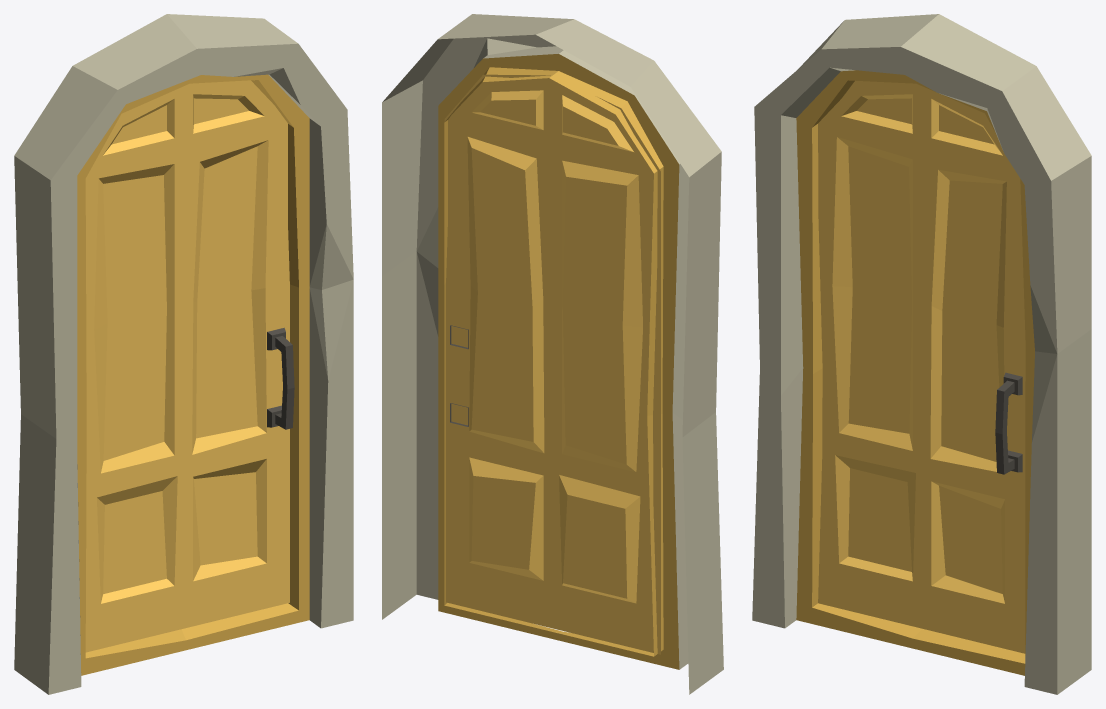
File: Door_7.fbx
3 views of the same model, side by side, from view 1: azimuth 30°, elevation 25°; view 2: azimuth 150°, elevation 25°; view 3: azimuth 330°, elevation 25° (orthographic).
Visible parts, largest first — view 1: Door_7; view 2: Door_7; view 3: Door_7.
Part boxes in pixels (left/top/right/bottom): Door_7: left=14, top=14, right=353, bottom=694; Door_7: left=382, top=14, right=723, bottom=694; Door_7: left=752, top=14, right=1091, bottom=694.
Bounding box in the file's own units: 133 × 258 × 26.02.
